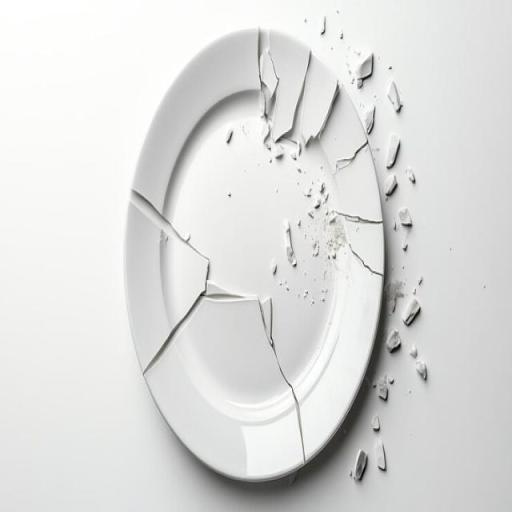glass: (113, 16, 391, 494), (328, 141, 382, 226), (267, 35, 307, 145), (322, 90, 368, 177), (300, 58, 338, 147), (260, 47, 278, 119), (350, 48, 374, 86), (264, 124, 284, 158), (386, 78, 402, 113), (386, 133, 400, 168), (364, 105, 375, 134), (398, 206, 412, 226)
